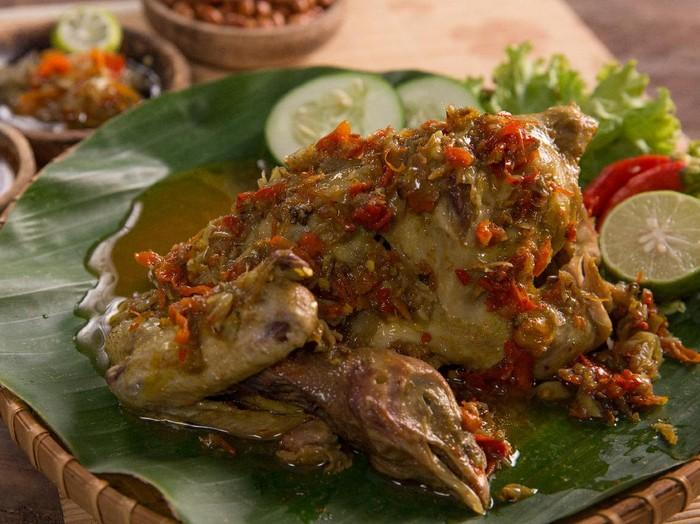ayam_betutu: (105, 106, 667, 515)
